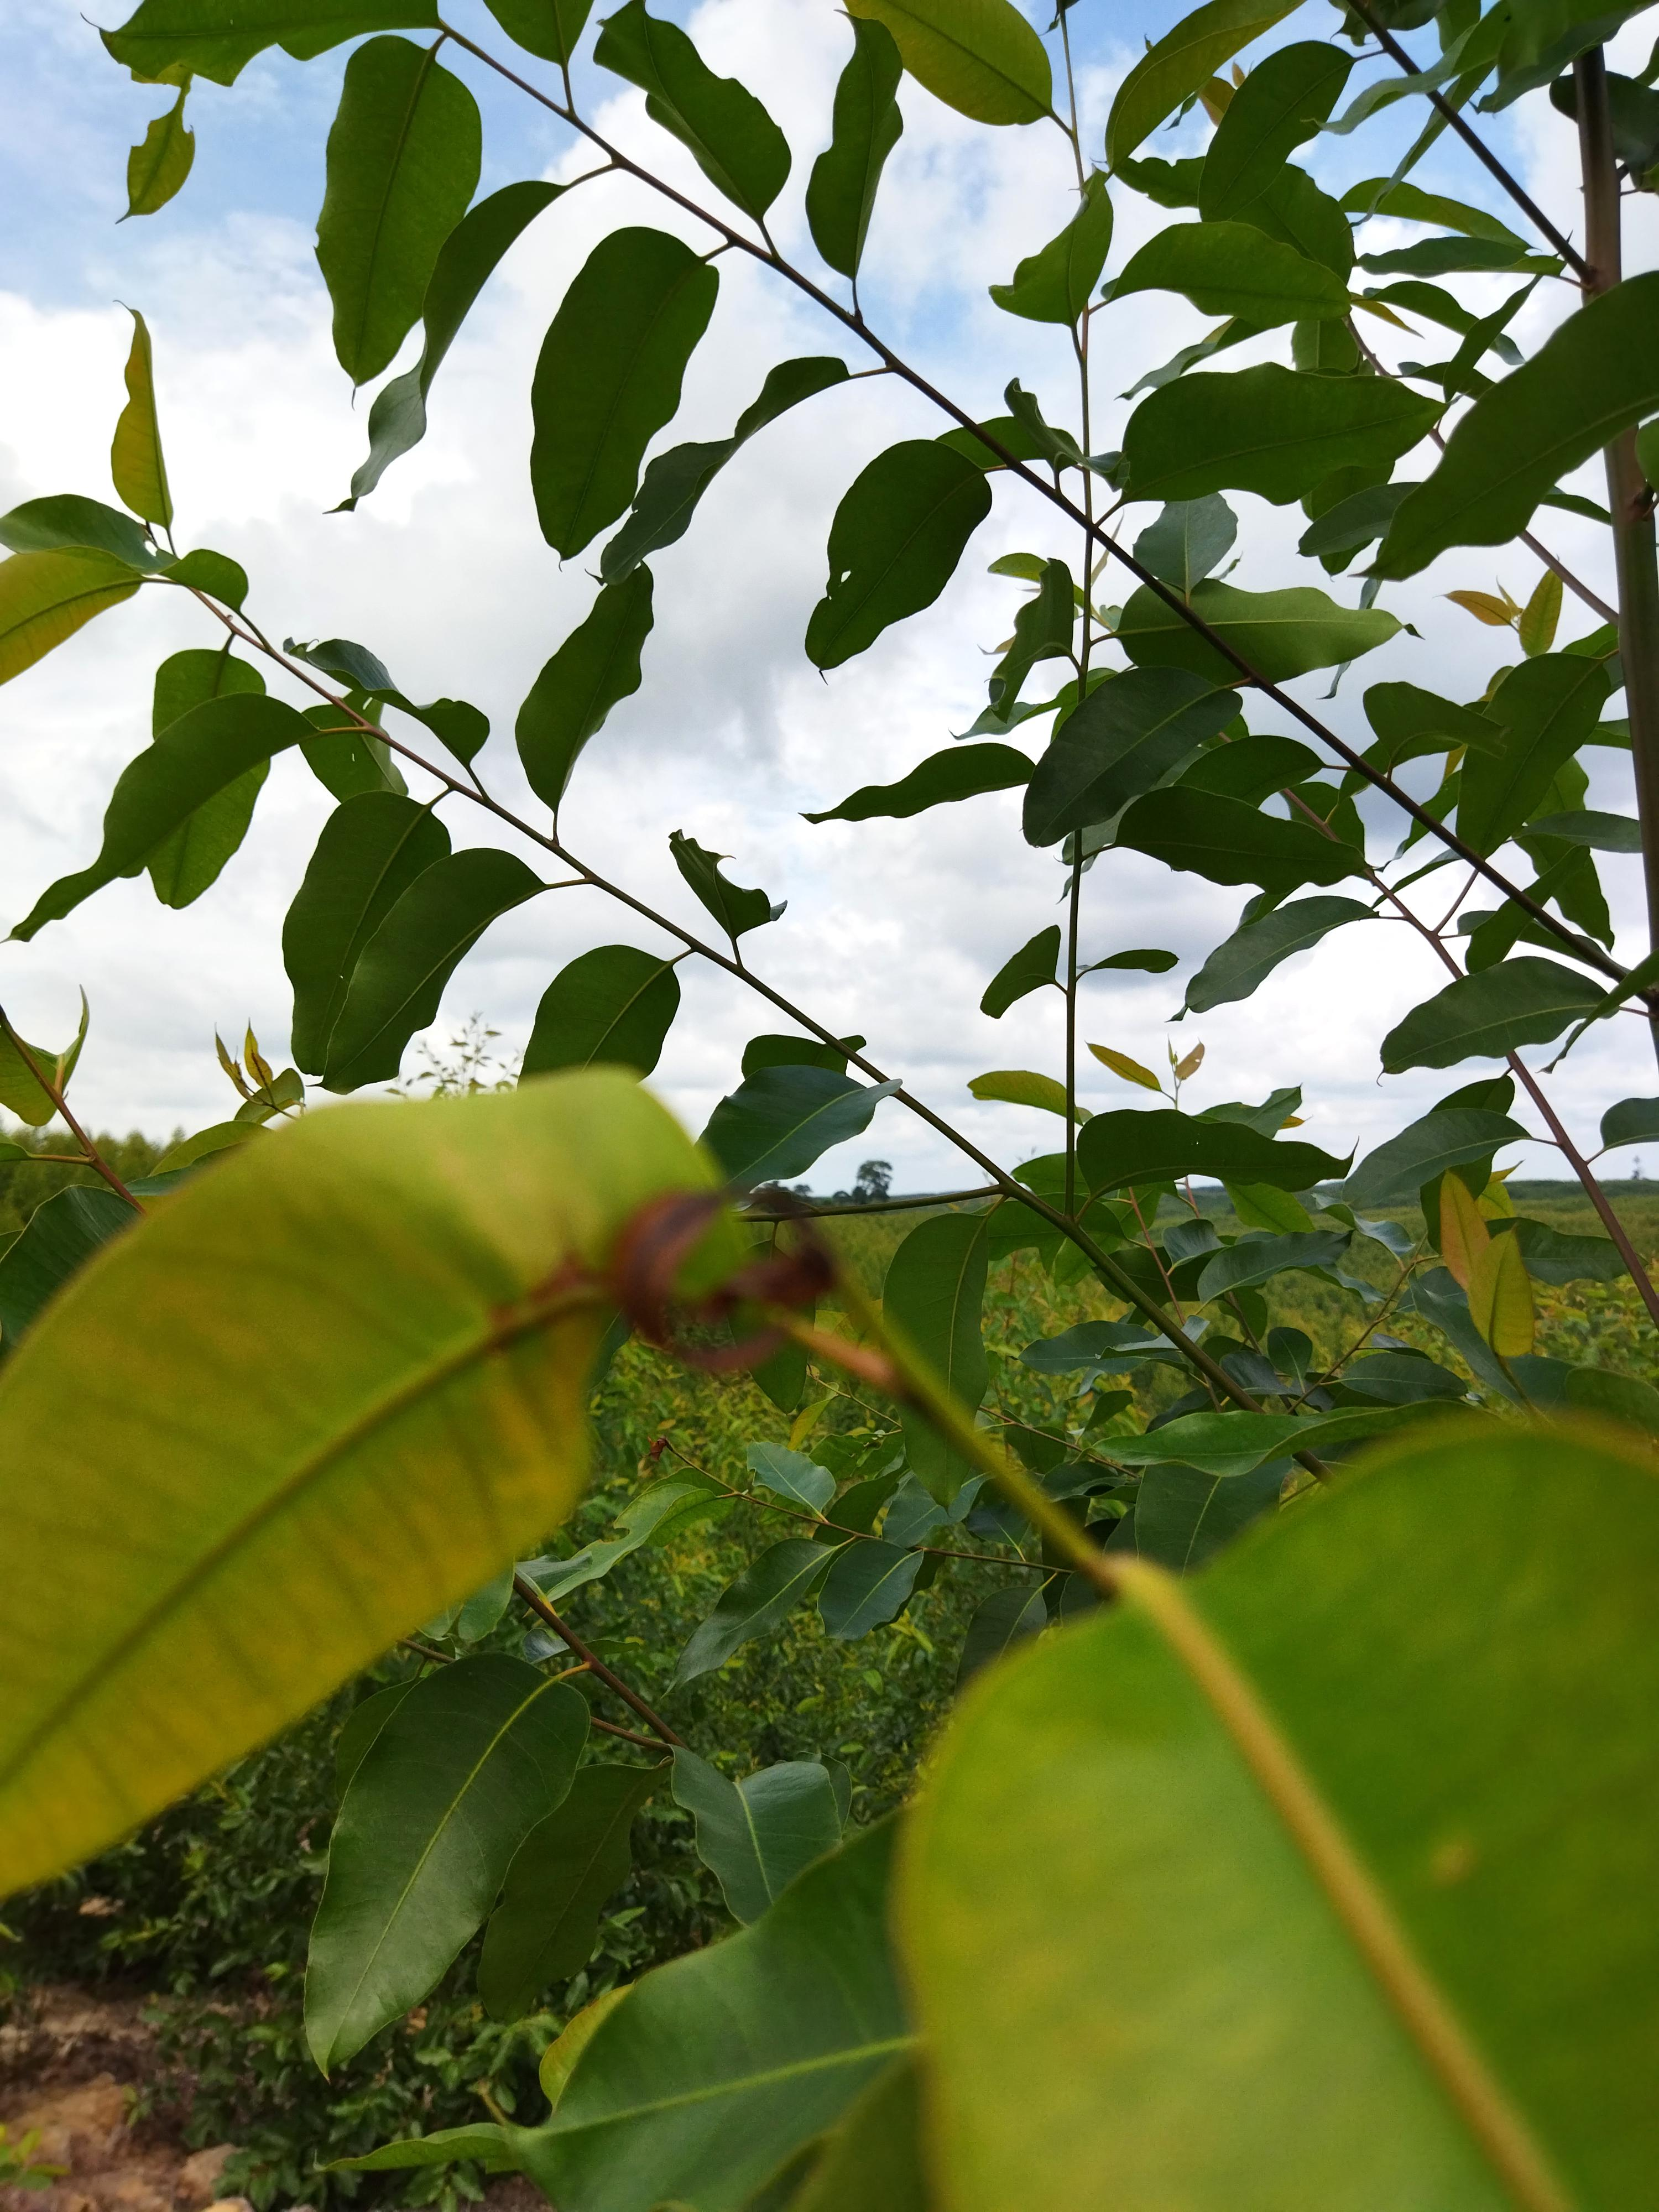Helopeltis-Withered Sprout: (532, 1151, 899, 1390)
